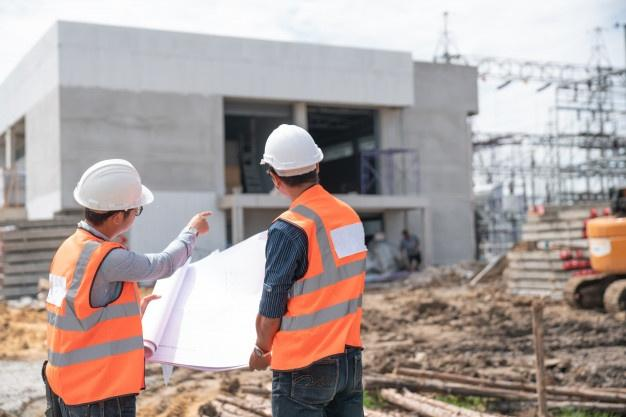helmet: (75, 158, 156, 212), (260, 125, 325, 178)
